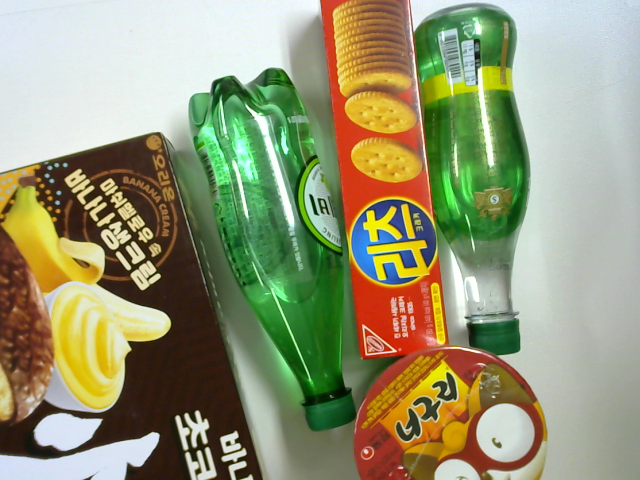Choco_Pie_Banana: (1, 122, 276, 478)
Raccoon: (342, 345, 558, 480)
Ritz_Cracker: (311, 1, 456, 367)
Seagram_Lemon_Carbonated_Water: (401, 1, 535, 371)
Treviraim_500ml: (184, 62, 361, 433)
